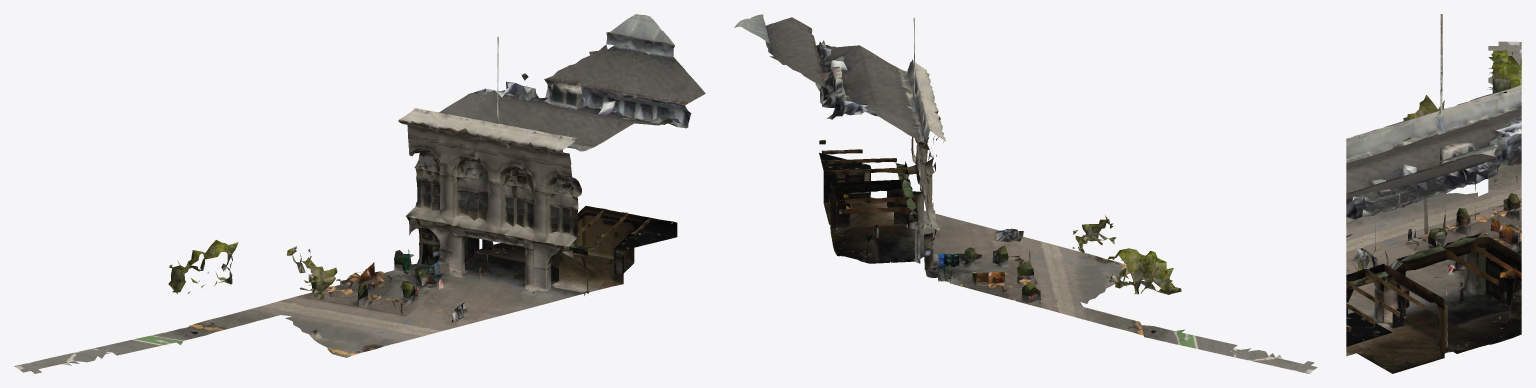
The picture shows the model from 3 angles, left to right: view 1: azimuth 30°, elevation 25°; view 2: azimuth 150°, elevation 25°; view 3: azimuth 270°, elevation 25°; orthographic projection. The views are drawn at different scales.
Size of the model in its own units: 61.23 by 25.43 by 12.34.
Materials: 1 (1 with a texture image).
